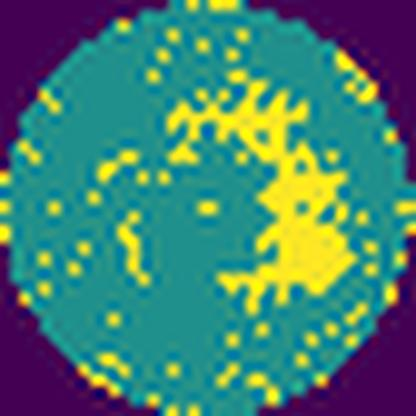Edge-Loc: (164, 67, 356, 315)
